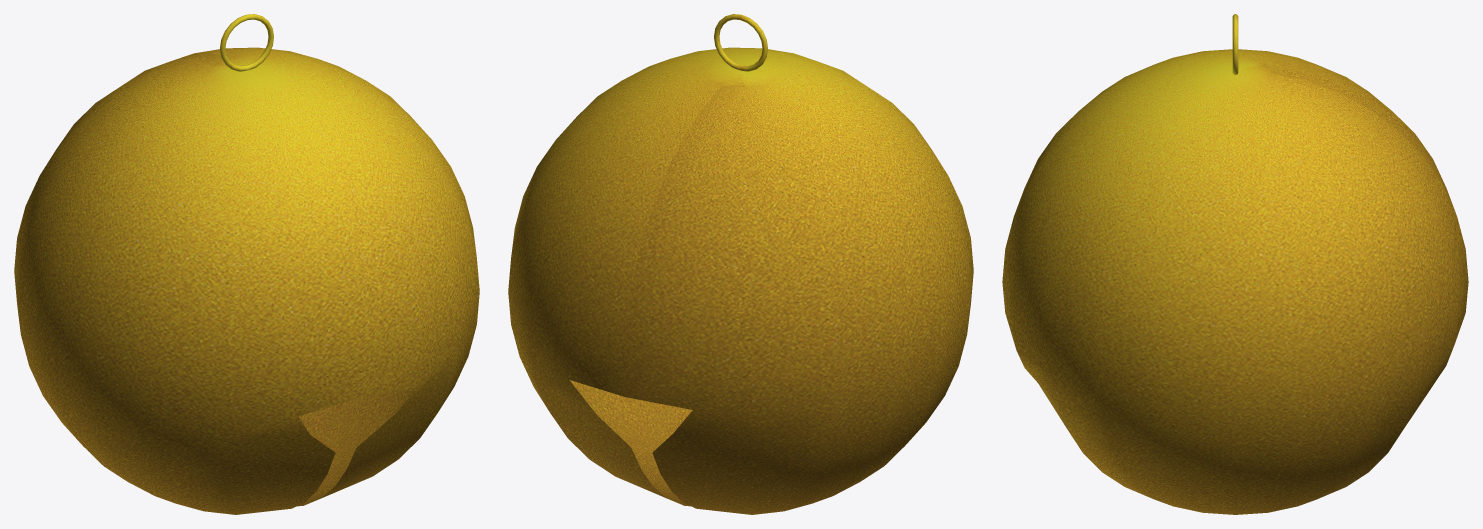
The model's file is Tool_Bell.fbx.
3 views of the same model, side by side, from view 1: azimuth 30°, elevation 25°; view 2: azimuth 150°, elevation 25°; view 3: azimuth 270°, elevation 25° (orthographic).
Parts seen in each view (by area): view 1: pTorus2; view 2: pTorus2; view 3: pTorus2.
Boxes of the visible parts, x1=… form: pTorus2: x1=14, y1=14, x2=479, y2=514; pTorus2: x1=508, y1=14, x2=973, y2=514; pTorus2: x1=1002, y1=14, x2=1468, y2=514.
Size of the model in its own units: 5 by 5.64 by 5.
Materials: 1 (1 with a texture image).
